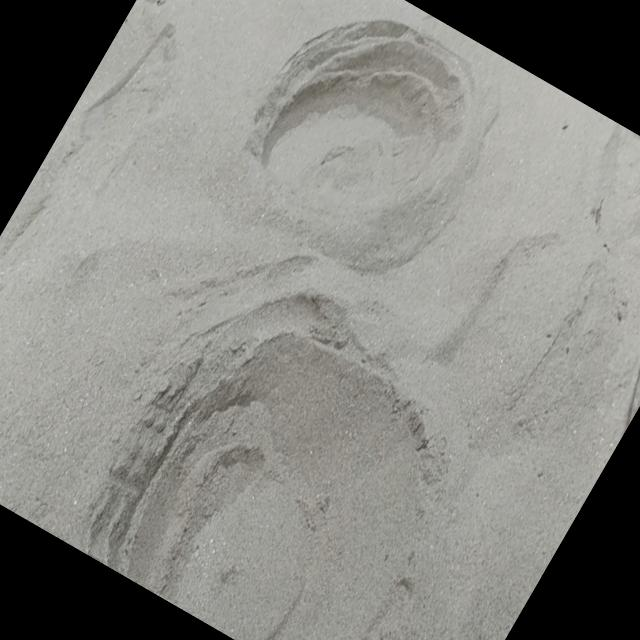C20: (105, 292, 436, 640), (251, 20, 464, 205)
